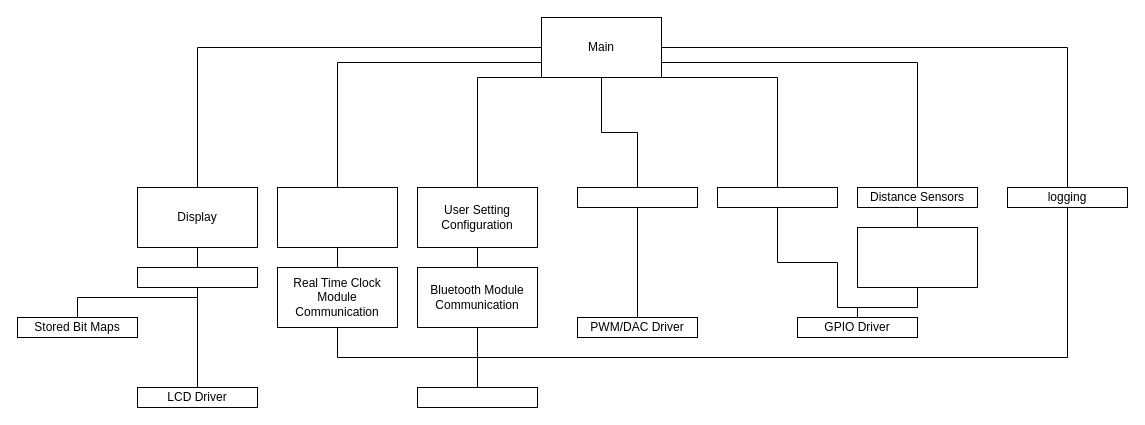
This 1145x425 diagram has some shape labels left out. The shapes that lost their labels are listed below. From the top down, each one's centre as x and y in pixels, then its label:
At point 337,217: "Time Setting Configuration".
At point 637,197: "Buzzer".
At point 777,197: "Input Sensors".
At point 197,277: "Rendering".
At point 917,257: "Time of Flight based Distance Measurement Calculation".
At point 477,397: "Serial Port".
